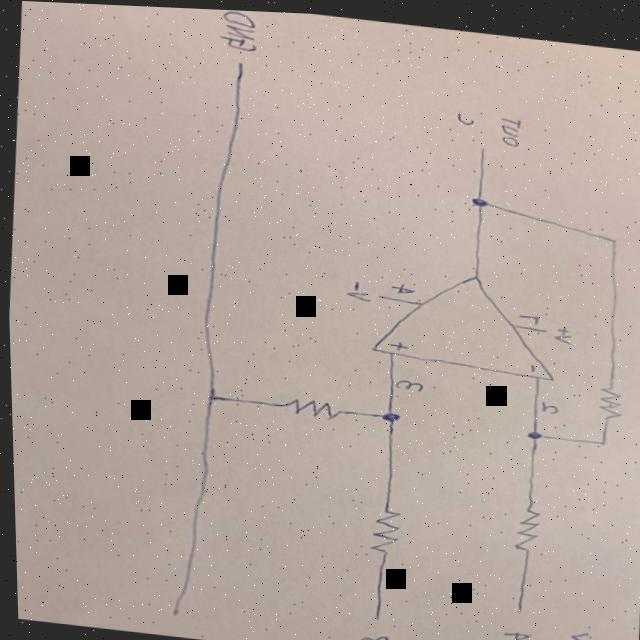junction: (450, 184, 503, 213), (192, 383, 232, 410), (513, 419, 551, 442), (370, 402, 405, 425), (597, 225, 630, 246), (585, 428, 613, 445)
resistor: (505, 494, 545, 555), (361, 497, 402, 555), (274, 390, 347, 419), (589, 376, 628, 419)
terminal: (158, 588, 195, 618), (226, 51, 256, 80), (362, 597, 389, 624), (505, 590, 535, 614), (469, 137, 493, 159)
text: (207, 7, 269, 52), (493, 109, 530, 145), (342, 274, 372, 299), (393, 372, 428, 392), (493, 622, 531, 640), (450, 105, 482, 124), (536, 392, 564, 413), (558, 623, 592, 640), (551, 320, 578, 341), (514, 305, 547, 322), (350, 627, 392, 640), (387, 277, 419, 294), (386, 337, 411, 351), (519, 358, 540, 368)
